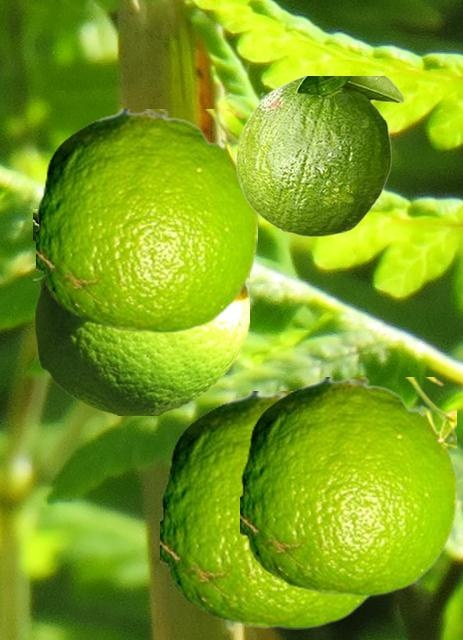dalandan: (160, 391, 374, 628), (36, 109, 256, 332), (240, 377, 455, 595), (33, 209, 248, 414), (235, 76, 404, 236)
